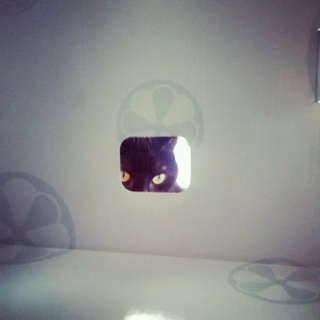Cat: (117, 137, 186, 194)
